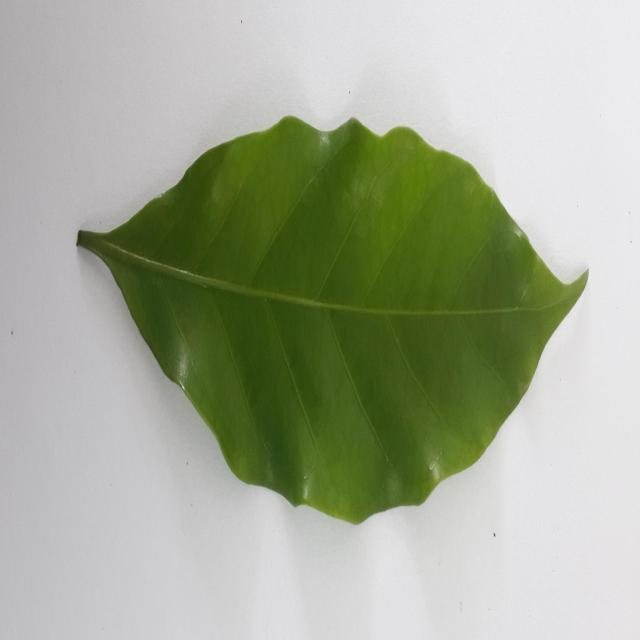nodisease: (77, 116, 588, 523)
